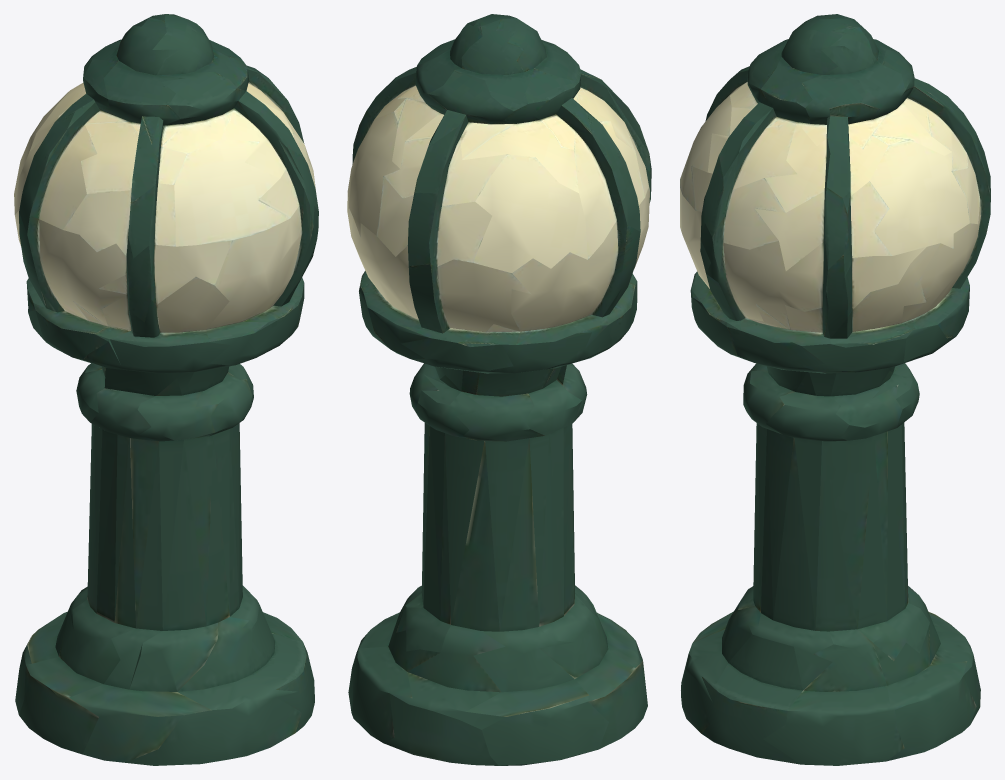
File: lamp-basic.glb
The picture shows the model from 3 angles, left to right: view 1: azimuth 30°, elevation 25°; view 2: azimuth 150°, elevation 25°; view 3: azimuth 270°, elevation 25°; orthographic projection.
Visible parts, largest first — view 1: lamp-basic-fit; view 2: lamp-basic-fit; view 3: lamp-basic-fit.
Part boxes in pixels (x1=…): lamp-basic-fit: x1=14, y1=14, x2=318, y2=765; lamp-basic-fit: x1=347, y1=14, x2=651, y2=765; lamp-basic-fit: x1=680, y1=14, x2=990, y2=765.
Size of the model in its own units: 0.4699 by 1.1 by 0.4523.
Materials: 1 (1 with a texture image).
